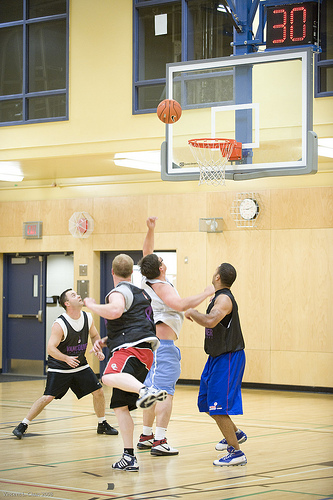basketball: (157, 98, 182, 125)
